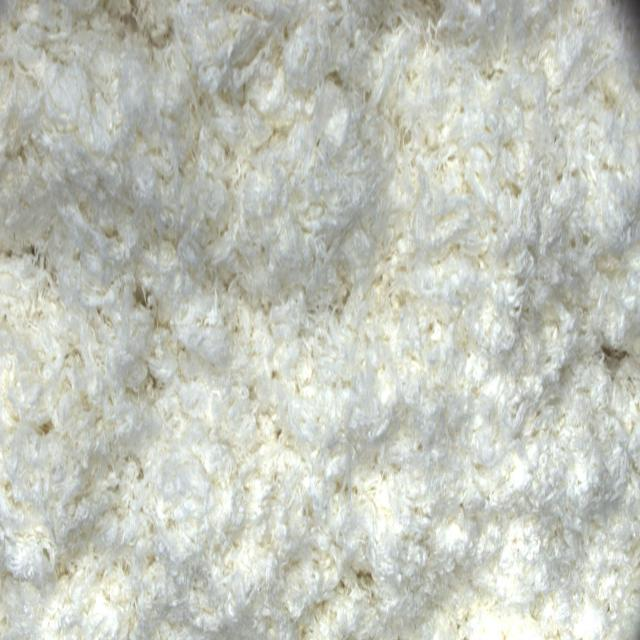dust: (603, 340, 628, 385)
